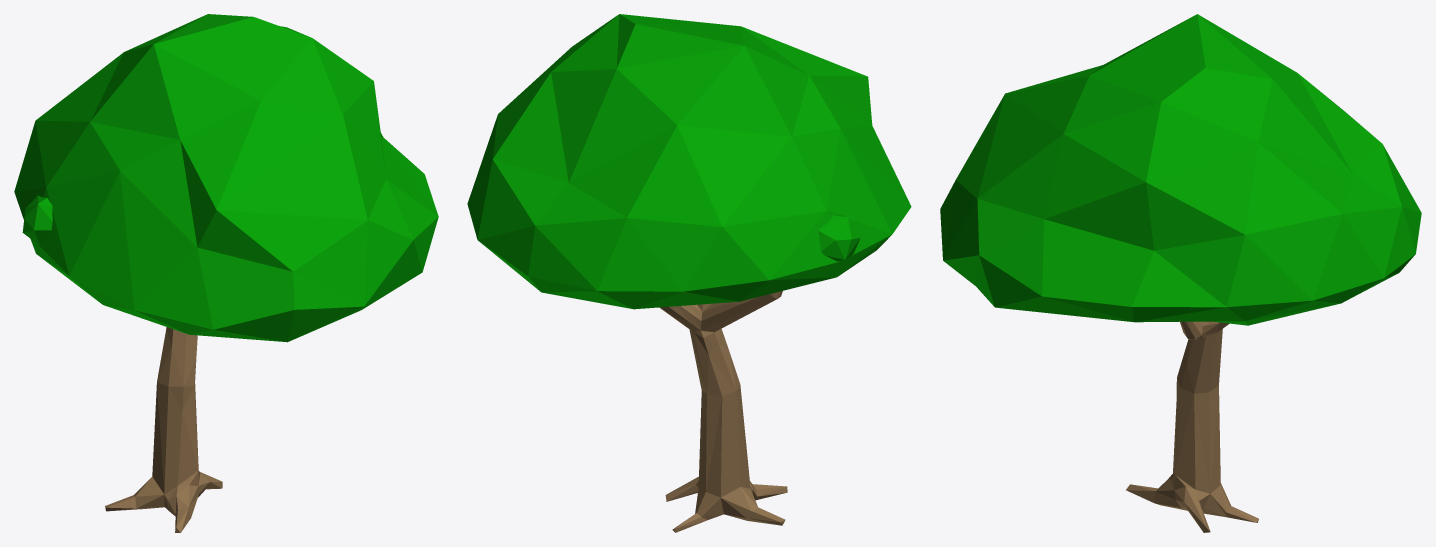
Rendered from LaubBaum1_2_tot_Mesh.fbx.
3 renders of one model, left to right at view 1: azimuth 30°, elevation 25°; view 2: azimuth 150°, elevation 25°; view 3: azimuth 270°, elevation 25°, orthographic. The views are drawn at different scales.
Visible parts, largest first — view 1: BaumKrone2:BaumKrone2, BaumStamm:BaumStamm, BaumKrone:BaumKrone; view 2: BaumKrone2:BaumKrone2, BaumStamm:BaumStamm, BaumKrone:BaumKrone; view 3: BaumKrone2:BaumKrone2, BaumStamm:BaumStamm.
Boxes of the visible parts, x1,y1,x2,y2 form: BaumKrone2:BaumKrone2: [14, 14, 438, 342]; BaumStamm:BaumStamm: [105, 327, 222, 532]; BaumKrone:BaumKrone: [22, 195, 52, 244]; BaumKrone2:BaumKrone2: [467, 14, 911, 309]; BaumStamm:BaumStamm: [659, 291, 787, 532]; BaumKrone:BaumKrone: [818, 214, 860, 261]; BaumKrone2:BaumKrone2: [940, 14, 1421, 325]; BaumStamm:BaumStamm: [1126, 321, 1258, 532].
Bounding box in the file's own units: 104 × 129 × 116.
